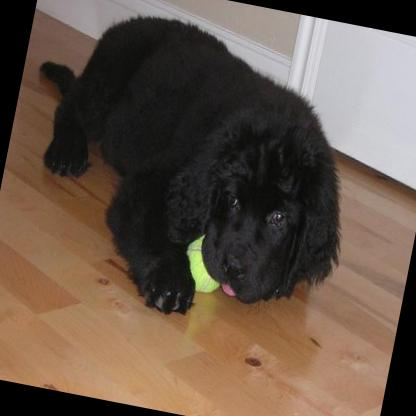Newfoundland: (0, 0, 378, 341)
